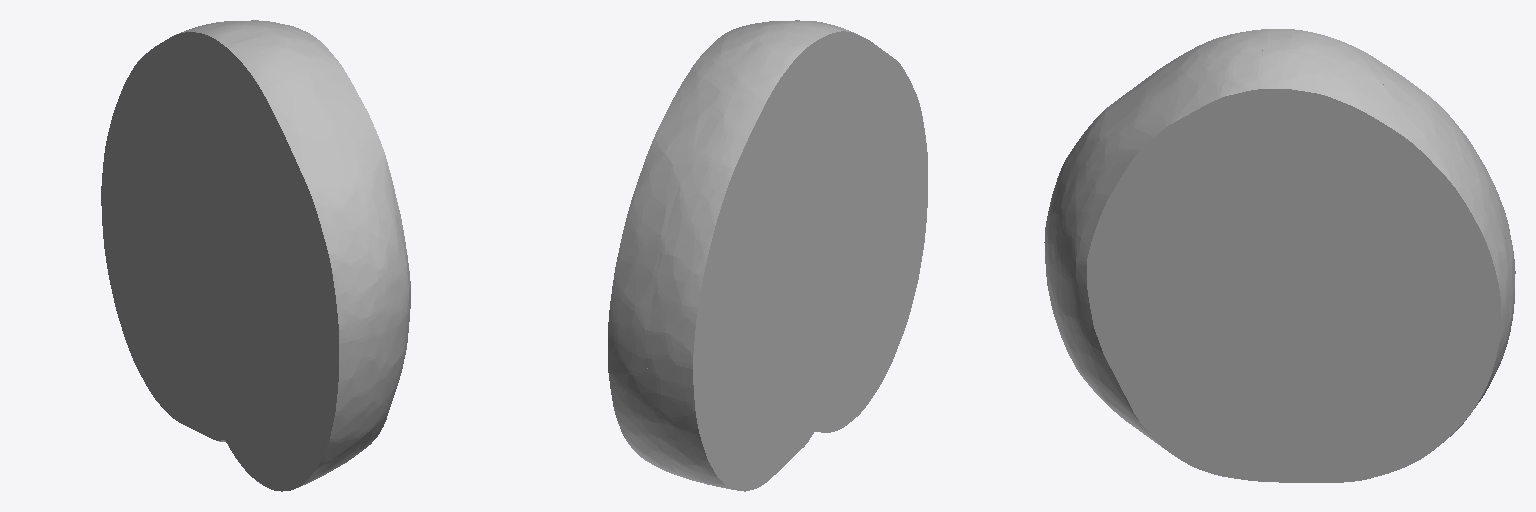
The robot description file, URDF, robot "root":
<robot name="root">
  <link name="link_coacd_convex_piece_0">
    <inertial>
      <origin xyz="0 0 0" rpy="0 0 0"/>
      <inertia ixx="1.50E-01" ixy="-8.06E-04" ixz="3.47E-02" iyy="2.63E-01" iyz="4.96E-03" izz="2.51E-01"/>
    </inertial>
    <visual>
      <origin xyz="0 0 0" rpy="0 0 0"/>
      <geometry>
        <mesh filename="coacd_convex_piece_0.obj" scale="1.0000E+00 1.0000E+00 1.0000E+00"/>
      </geometry>
      <material name="">
        <color rgba="7.50E-01 7.50E-01 7.50E-01 1"/>
      </material>
    </visual>
    <collision>
      <origin xyz="0 0 0" rpy="0 0 0"/>
      <geometry>
        <mesh filename="coacd_convex_piece_0.obj" scale="1.0000E+00 1.0000E+00 1.0000E+00"/>
      </geometry>
    </collision>
  </link>
  <link name="link_coacd_convex_piece_1">
    <inertial>
      <origin xyz="0 0 0" rpy="0 0 0"/>
      <inertia ixx="1.19E-01" ixy="-1.98E-03" ixz="3.47E-03" iyy="7.38E-02" iyz="4.17E-03" izz="7.52E-02"/>
    </inertial>
    <visual>
      <origin xyz="0 0 0" rpy="0 0 0"/>
      <geometry>
        <mesh filename="coacd_convex_piece_1.obj" scale="1.0000E+00 1.0000E+00 1.0000E+00"/>
      </geometry>
      <material name="">
        <color rgba="7.50E-01 7.50E-01 7.50E-01 1"/>
      </material>
    </visual>
    <collision>
      <origin xyz="0 0 0" rpy="0 0 0"/>
      <geometry>
        <mesh filename="coacd_convex_piece_1.obj" scale="1.0000E+00 1.0000E+00 1.0000E+00"/>
      </geometry>
    </collision>
  </link>
  <joint name="link_coacd_convex_piece_1_joint" type="fixed">
    <origin xyz="0 0 0" rpy="0 0 0"/>
    <parent link="link_coacd_convex_piece_0"/>
    <child link="link_coacd_convex_piece_1"/>
  </joint>
  <link name="link_coacd_convex_piece_2">
    <inertial>
      <origin xyz="0 0 0" rpy="0 0 0"/>
      <inertia ixx="2.91E-01" ixy="-4.42E-03" ixz="-4.36E-02" iyy="3.33E-01" iyz="8.63E-05" izz="3.36E-01"/>
    </inertial>
    <visual>
      <origin xyz="0 0 0" rpy="0 0 0"/>
      <geometry>
        <mesh filename="coacd_convex_piece_2.obj" scale="1.0000E+00 1.0000E+00 1.0000E+00"/>
      </geometry>
      <material name="">
        <color rgba="7.50E-01 7.50E-01 7.50E-01 1"/>
      </material>
    </visual>
    <collision>
      <origin xyz="0 0 0" rpy="0 0 0"/>
      <geometry>
        <mesh filename="coacd_convex_piece_2.obj" scale="1.0000E+00 1.0000E+00 1.0000E+00"/>
      </geometry>
    </collision>
  </link>
  <joint name="link_coacd_convex_piece_2_joint" type="fixed">
    <origin xyz="0 0 0" rpy="0 0 0"/>
    <parent link="link_coacd_convex_piece_1"/>
    <child link="link_coacd_convex_piece_2"/>
  </joint>
  <link name="link_coacd_convex_piece_3">
    <inertial>
      <origin xyz="0 0 0" rpy="0 0 0"/>
      <inertia ixx="6.47E-02" ixy="2.16E-04" ixz="-7.42E-05" iyy="2.98E-02" iyz="-3.27E-03" izz="3.60E-02"/>
    </inertial>
    <visual>
      <origin xyz="0 0 0" rpy="0 0 0"/>
      <geometry>
        <mesh filename="coacd_convex_piece_3.obj" scale="1.0000E+00 1.0000E+00 1.0000E+00"/>
      </geometry>
      <material name="">
        <color rgba="7.50E-01 7.50E-01 7.50E-01 1"/>
      </material>
    </visual>
    <collision>
      <origin xyz="0 0 0" rpy="0 0 0"/>
      <geometry>
        <mesh filename="coacd_convex_piece_3.obj" scale="1.0000E+00 1.0000E+00 1.0000E+00"/>
      </geometry>
    </collision>
  </link>
  <joint name="link_coacd_convex_piece_3_joint" type="fixed">
    <origin xyz="0 0 0" rpy="0 0 0"/>
    <parent link="link_coacd_convex_piece_2"/>
    <child link="link_coacd_convex_piece_3"/>
  </joint>
  <link name="link_coacd_convex_piece_4">
    <inertial>
      <origin xyz="0 0 0" rpy="0 0 0"/>
      <inertia ixx="7.02E-02" ixy="-3.29E-04" ixz="1.35E-05" iyy="3.49E-02" iyz="5.80E-03" izz="3.65E-02"/>
    </inertial>
    <visual>
      <origin xyz="0 0 0" rpy="0 0 0"/>
      <geometry>
        <mesh filename="coacd_convex_piece_4.obj" scale="1.0000E+00 1.0000E+00 1.0000E+00"/>
      </geometry>
      <material name="">
        <color rgba="7.50E-01 7.50E-01 7.50E-01 1"/>
      </material>
    </visual>
    <collision>
      <origin xyz="0 0 0" rpy="0 0 0"/>
      <geometry>
        <mesh filename="coacd_convex_piece_4.obj" scale="1.0000E+00 1.0000E+00 1.0000E+00"/>
      </geometry>
    </collision>
  </link>
  <joint name="link_coacd_convex_piece_4_joint" type="fixed">
    <origin xyz="0 0 0" rpy="0 0 0"/>
    <parent link="link_coacd_convex_piece_3"/>
    <child link="link_coacd_convex_piece_4"/>
  </joint>
</robot>

--- Facts derived from the render (not from the file) ---
The picture shows the robot from 3 angles, left to right: view 1: azimuth 30°, elevation 25°; view 2: azimuth 150°, elevation 25°; view 3: azimuth 270°, elevation 25°; orthographic projection.
Robot: root — 5 links, 4 joints (4 fixed); root link link_coacd_convex_piece_0; default pose: all joints at 0.
Links seen in each view (by area): view 1: link_coacd_convex_piece_3, link_coacd_convex_piece_4, link_coacd_convex_piece_1; view 2: link_coacd_convex_piece_4, link_coacd_convex_piece_3, link_coacd_convex_piece_1; view 3: link_coacd_convex_piece_1, link_coacd_convex_piece_3, link_coacd_convex_piece_4.
Boxes of the visible links, x1,y1,x2,y2 form: link_coacd_convex_piece_3: [225, 34, 380, 491]; link_coacd_convex_piece_4: [101, 21, 269, 441]; link_coacd_convex_piece_1: [241, 20, 410, 463]; link_coacd_convex_piece_4: [647, 30, 814, 491]; link_coacd_convex_piece_3: [770, 20, 927, 432]; link_coacd_convex_piece_1: [608, 21, 786, 478]; link_coacd_convex_piece_1: [1052, 50, 1514, 482]; link_coacd_convex_piece_3: [1044, 29, 1269, 392]; link_coacd_convex_piece_4: [1270, 29, 1515, 320].
Size in the robot's own frame: 0.3799 by 1.7 by 1.64 metres.
Meshes: 5 distinct files referenced, 3 mesh visuals loaded (3 OBJ); not drawn: 2 (reference not matched to a file when rendering).